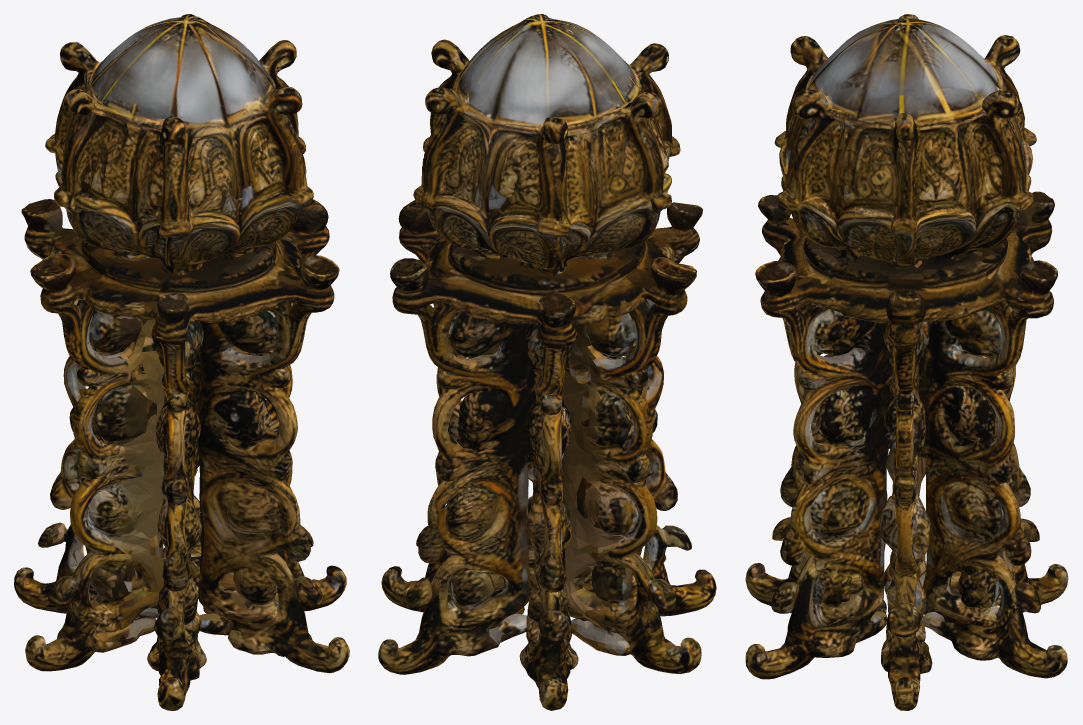
3 views of the same model, side by side, from view 1: azimuth 30°, elevation 25°; view 2: azimuth 150°, elevation 25°; view 3: azimuth 270°, elevation 25° (orthographic).
Visible parts, largest first — view 1: textured_mesh; view 2: textured_mesh; view 3: textured_mesh.
Boxes of the visible parts, left/top/right/bottom form: textured_mesh: left=14, top=14, right=349, bottom=710; textured_mesh: left=378, top=14, right=716, bottom=710; textured_mesh: left=745, top=14, right=1068, bottom=710.
Size of the model in its own units: 1.07 by 1.99 by 0.937.
1 material, 1 textured.
